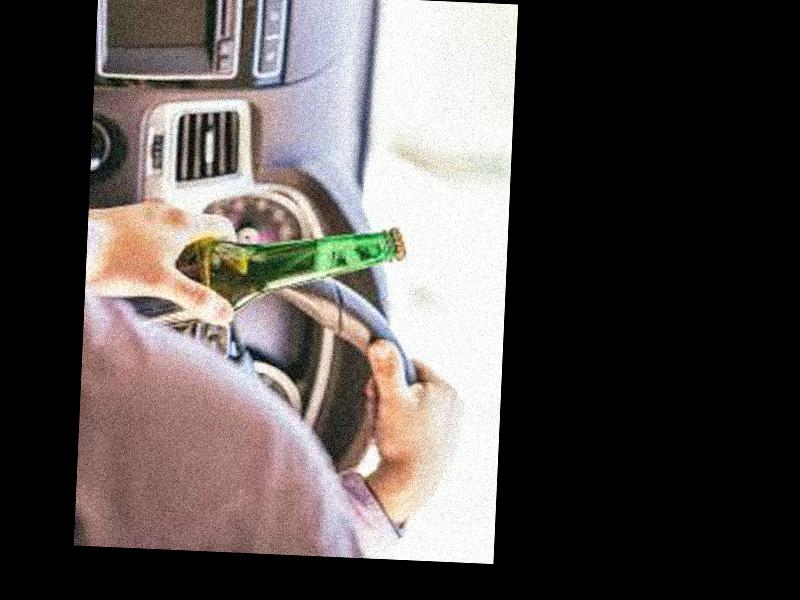Beer: (96, 213, 409, 342)
